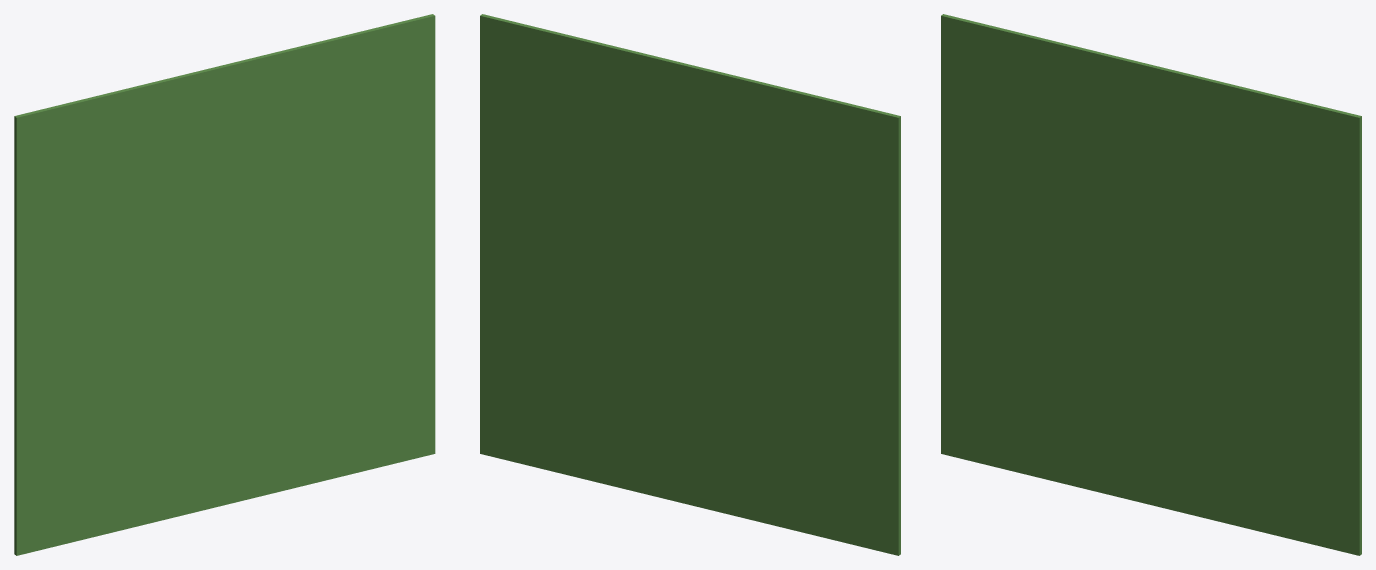
Rendered from grass_meadow.glb.
The picture shows the model from 3 angles, left to right: view 1: azimuth 30°, elevation 25°; view 2: azimuth 150°, elevation 25°; view 3: azimuth 330°, elevation 25°; orthographic projection.
Visible parts, largest first — view 1: geometry_0; view 2: geometry_0; view 3: geometry_0.
Boxes of the visible parts, bbox=[...] form: geometry_0: bbox=[14, 14, 435, 555]; geometry_0: bbox=[480, 14, 900, 555]; geometry_0: bbox=[941, 14, 1361, 555].
Bounding box in the file's own units: 5 × 5 × 0.4393.
